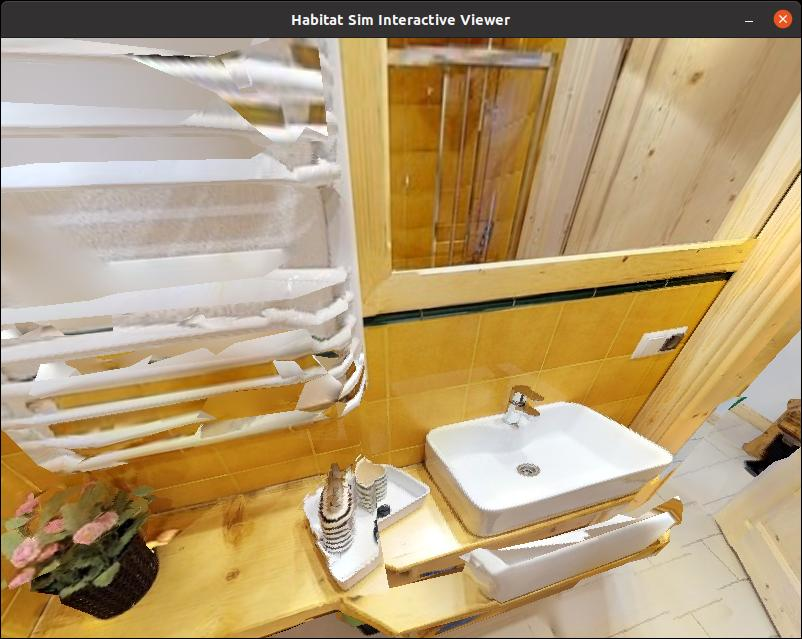sink: (405, 357, 648, 524)
